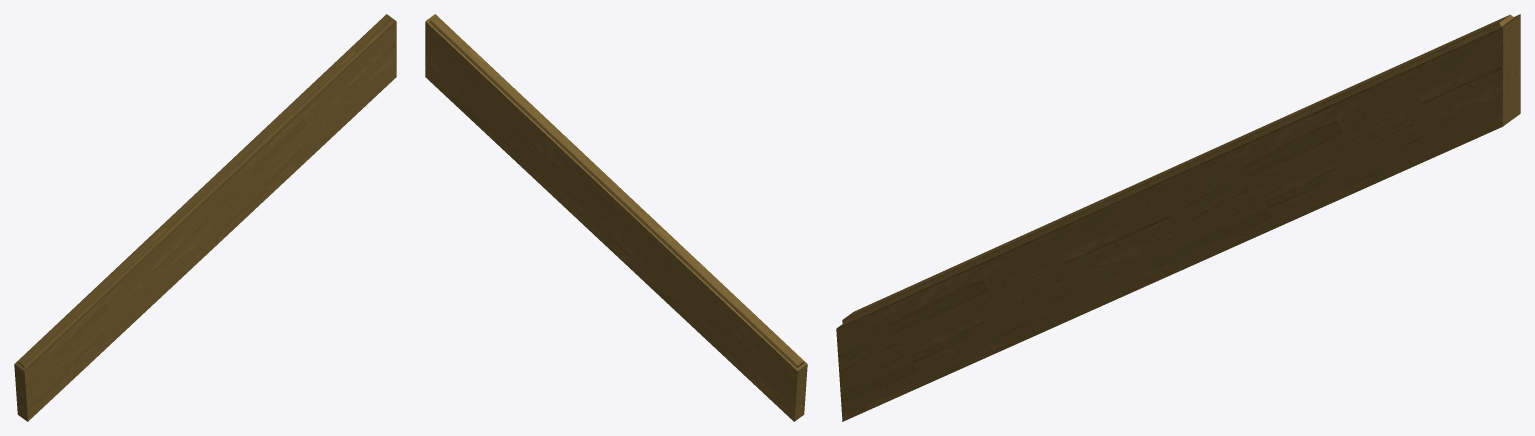
Rendered from SM_building_stairs_05.glb.
3 views of the same model, side by side, from view 1: azimuth 30°, elevation 25°; view 2: azimuth 150°, elevation 25°; view 3: azimuth 330°, elevation 25° (orthographic). The views are drawn at different scales.
Visible parts, largest first — view 1: SM_building_stairs_05; view 2: SM_building_stairs_05; view 3: SM_building_stairs_05.
Boxes of the visible parts, x1,y1,x2,y2 form: SM_building_stairs_05: (14,14,396,421); SM_building_stairs_05: (425,14,807,421); SM_building_stairs_05: (836,14,1520,421).
Bounding box in the file's own units: 5.35 × 4.27 × 0.2497.
1 material, 1 textured.
